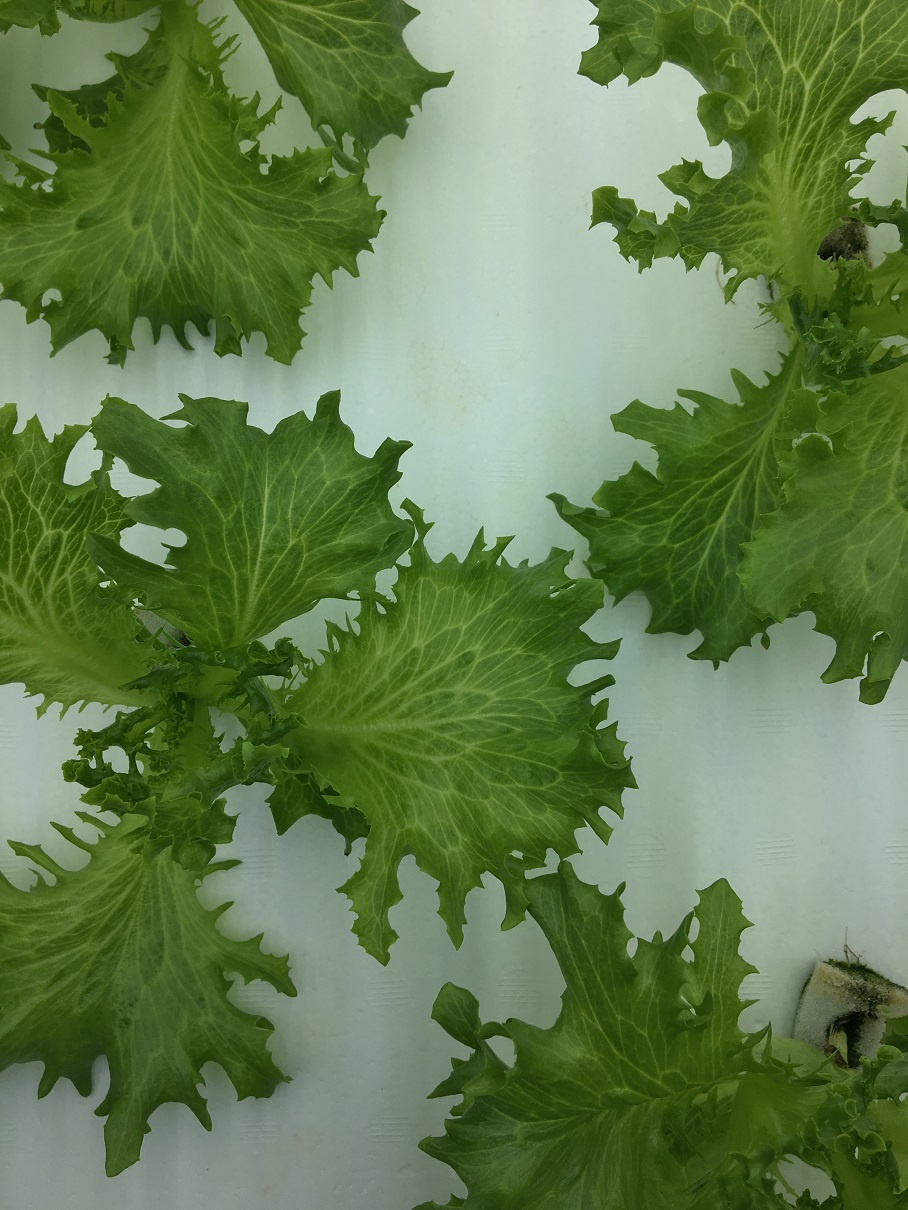tipburn: (23, 117, 47, 137), (341, 844, 357, 864)
